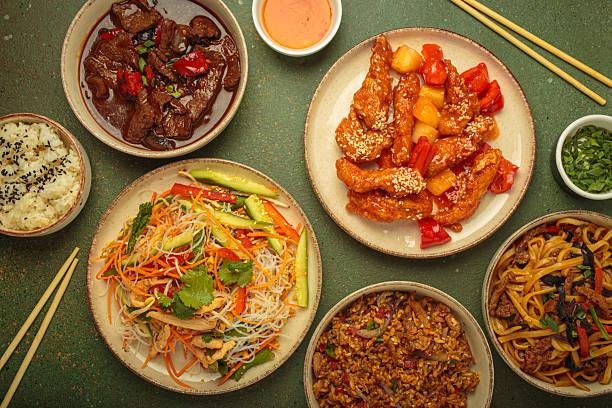Braised Crucian Carp: (85, 156, 315, 395), (303, 25, 532, 259), (60, 1, 246, 159), (479, 209, 611, 401), (304, 280, 495, 407)
